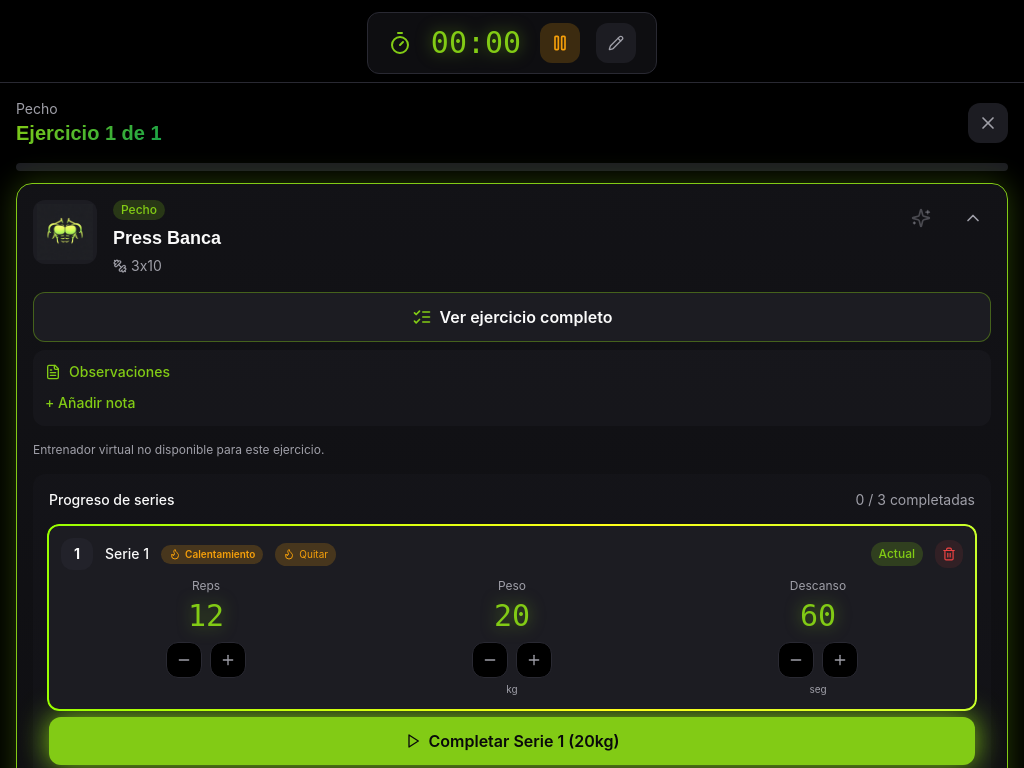
Test: vista del ejercicio completo durante la ejecución › cerrar por X, Escape o fuera no altera el estado ni dispara onSetComplete
Click the button "Ver ejercicio completo" at (512, 317), box [33,292,991,342]
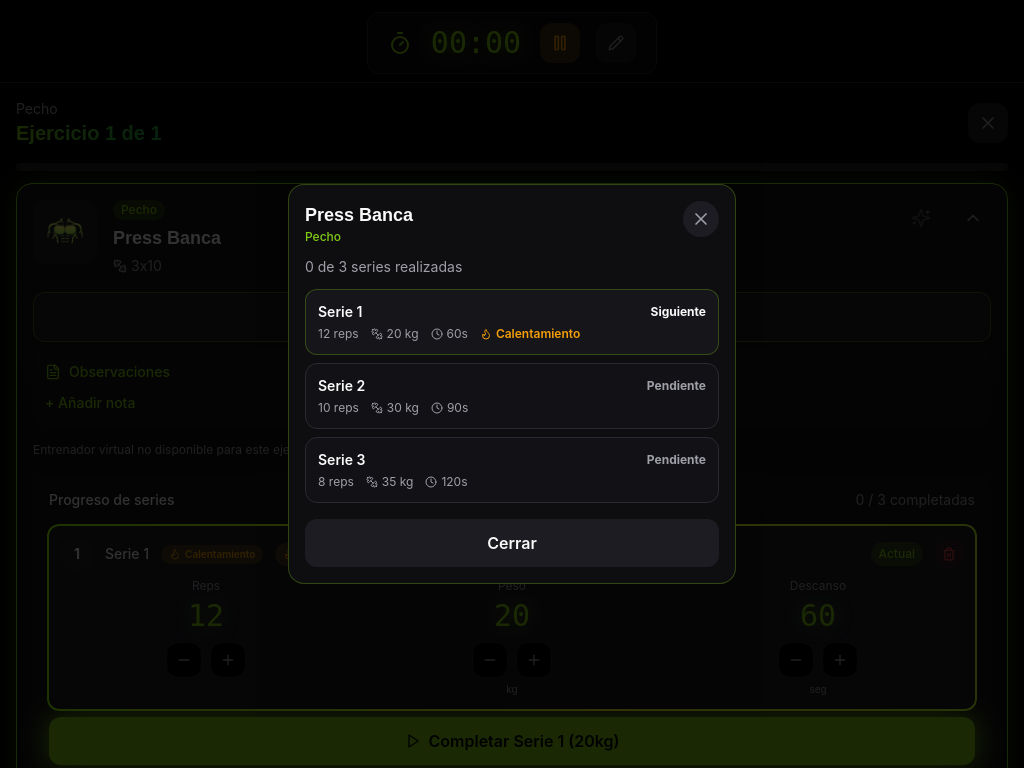
Click the button named "Cerrar" at (701, 219), box [683,201,719,237]
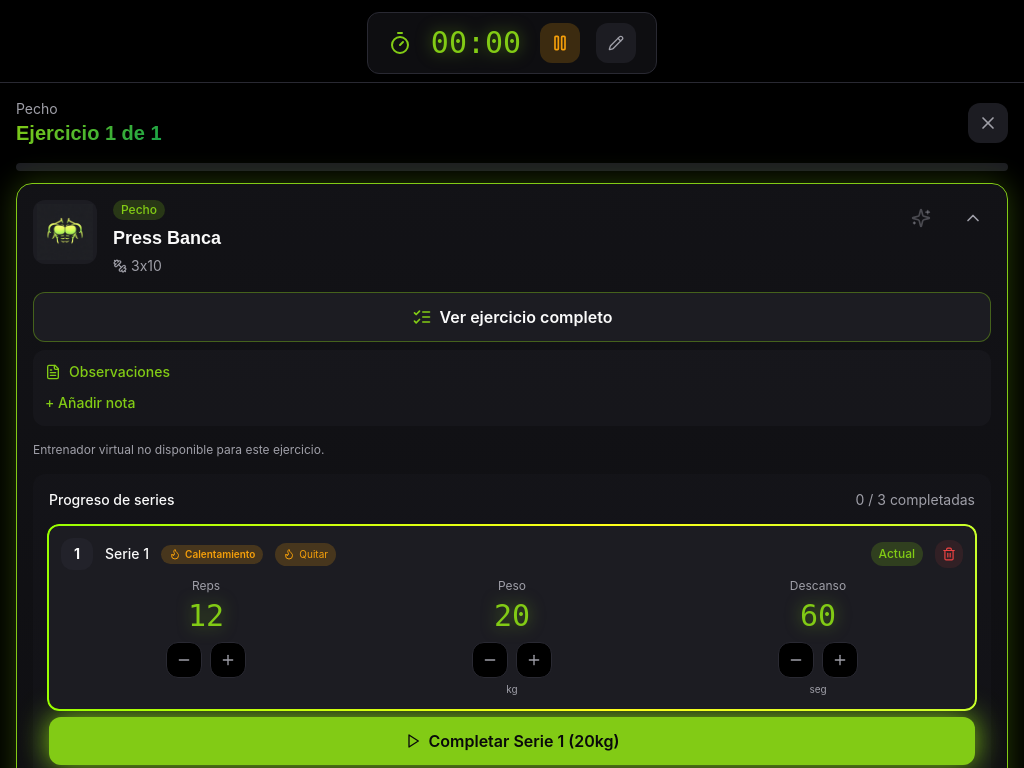
Result: the element with test id "plan-set-1" is gone
Click the button "Ver ejercicio completo" at (512, 317), box [33,292,991,342]
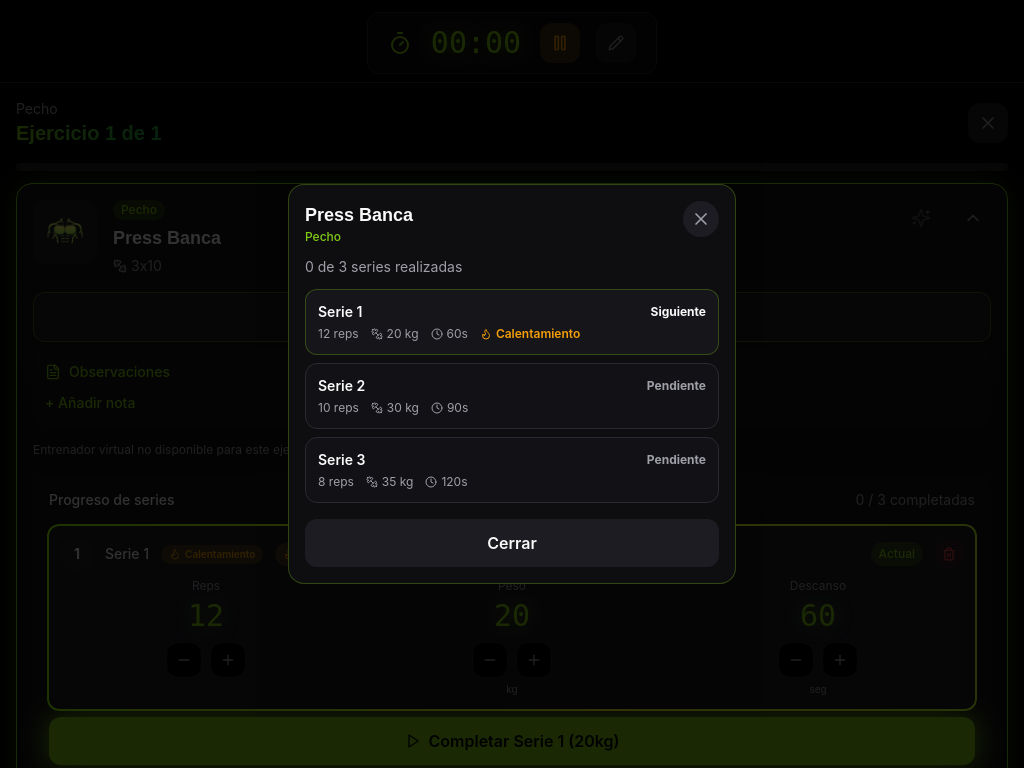
Press Escape
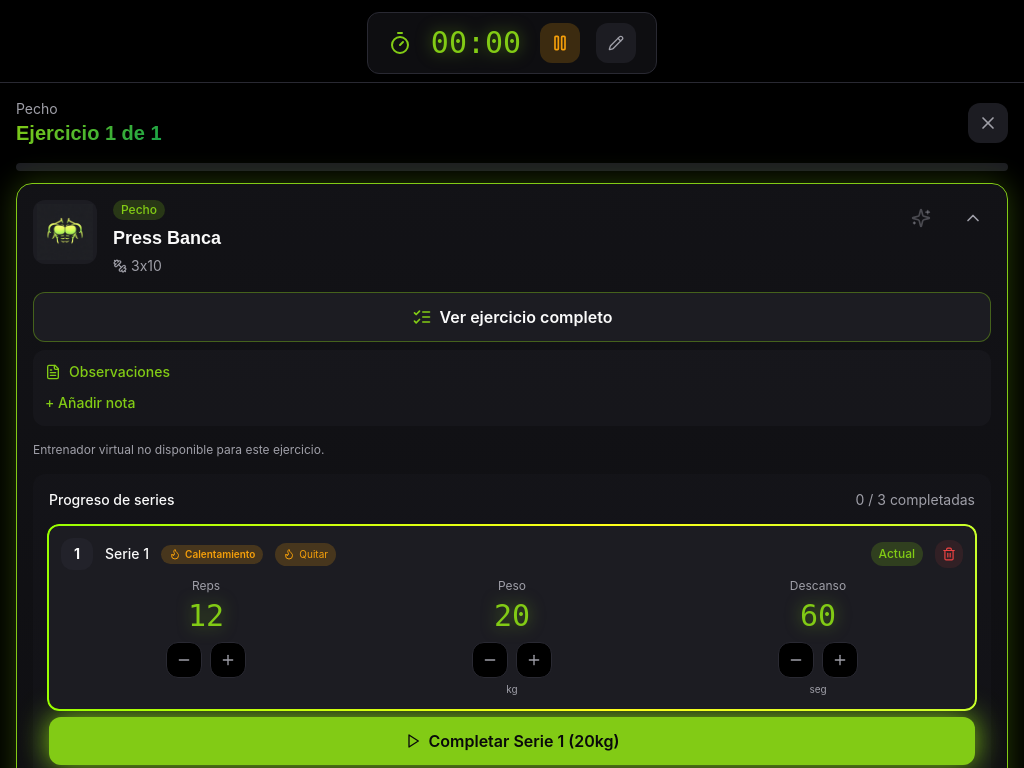
Result: the element with test id "plan-set-1" is gone
Click the button "Ver ejercicio completo" at (512, 317), box [33,292,991,342]
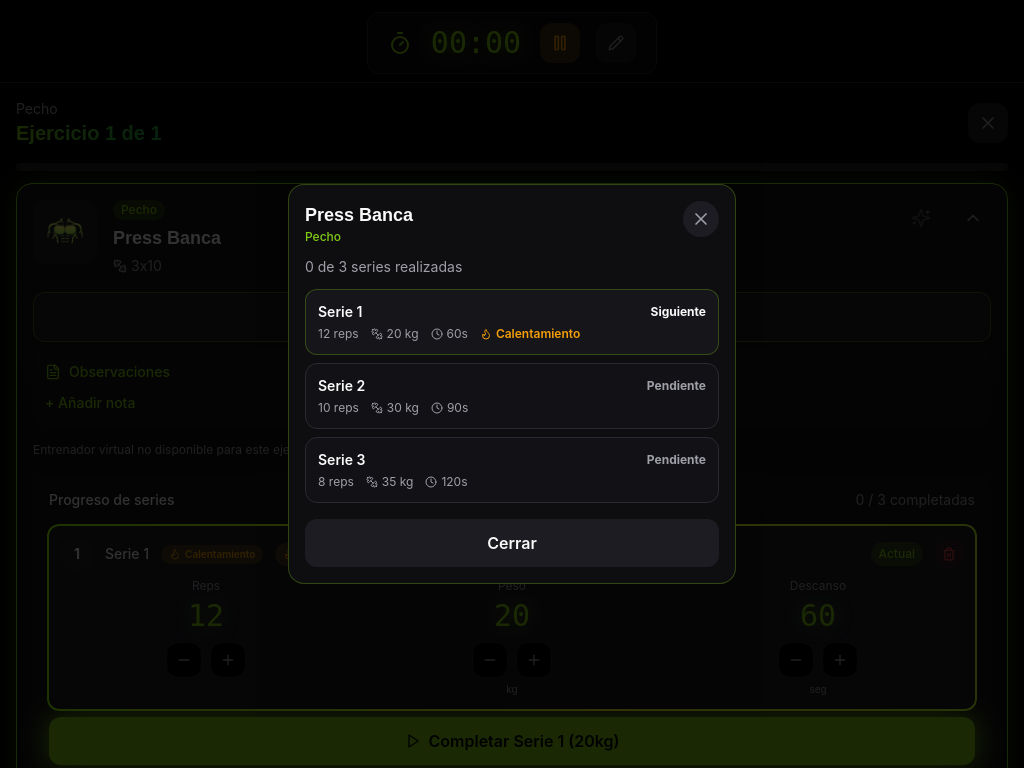
Click the element with test id "exercise-plan-overlay" at (61, 384), box [0,0,1023,767]
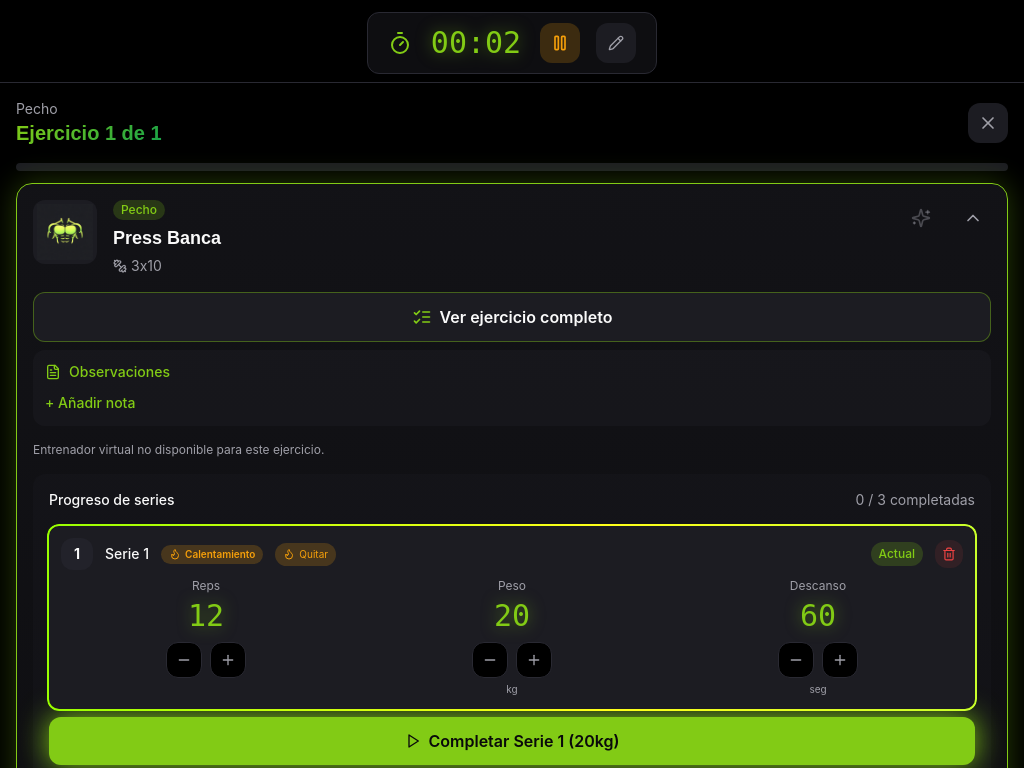
Expected: the button "Completar Serie 1 (20kg)" is shown, [49,717,975,765]
Result: the element with test id "plan-set-1" is gone
